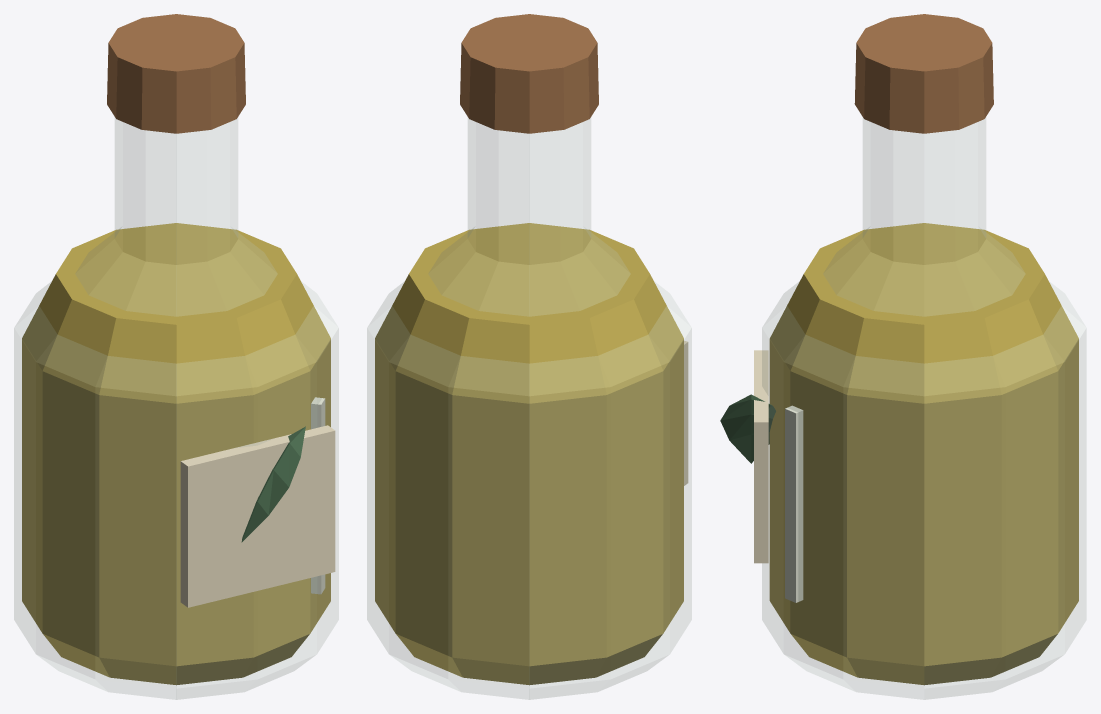
The model's file is veg_oil.glb.
3 renders of one model, left to right at view 1: azimuth 30°, elevation 25°; view 2: azimuth 150°, elevation 25°; view 3: azimuth 270°, elevation 25°, orthographic.
Visible parts, largest first — view 1: geometry, glass; view 2: geometry, glass; view 3: geometry, glass.
Part boxes in pixels (left/top/right/bottom): geometry: left=22, top=14, right=335, bottom=685; glass: left=14, top=118, right=338, bottom=699; geometry: left=375, top=14, right=688, bottom=685; glass: left=367, top=118, right=691, bottom=699; geometry: left=720, top=14, right=1078, bottom=685; glass: left=762, top=118, right=1086, bottom=699.
Size of the model in its own units: 0.2625 by 0.535 by 0.2963.
